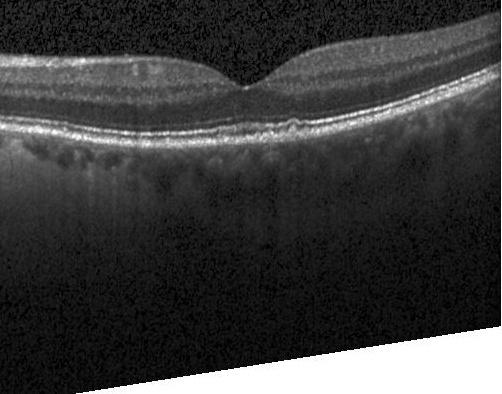retinal_drusen: (289, 126, 300, 141), (262, 130, 275, 142), (279, 129, 287, 142), (302, 126, 310, 138), (254, 132, 261, 142), (245, 135, 251, 142)
